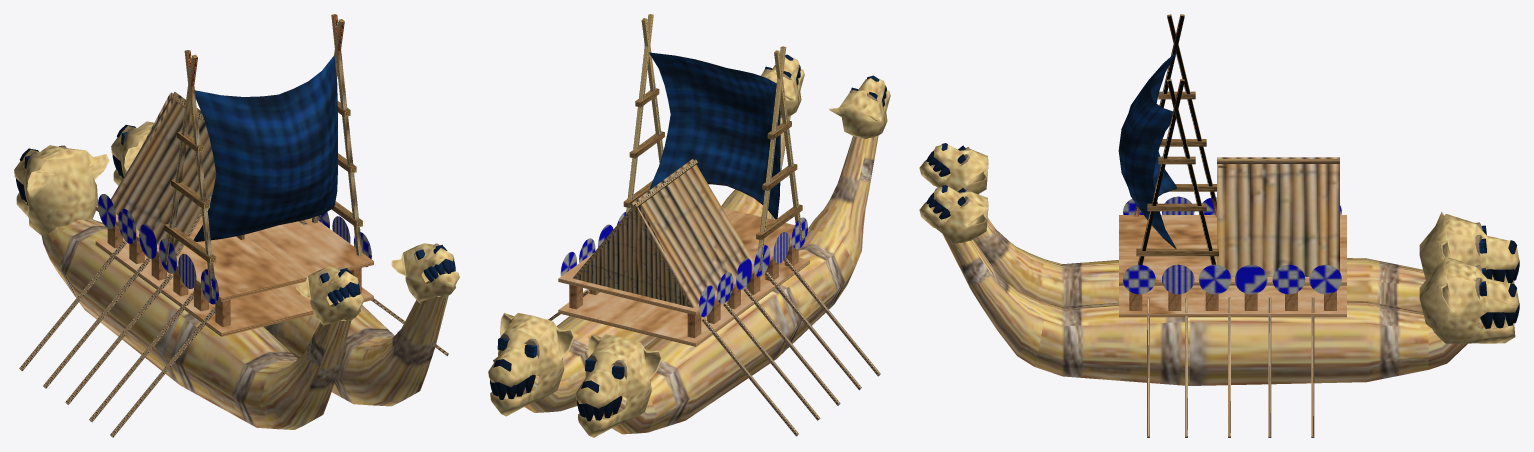
File: ship_bireme.dae
3 renders of one model, left to right at view 1: azimuth 30°, elevation 25°; view 2: azimuth 150°, elevation 25°; view 3: azimuth 270°, elevation 25°, orthographic. The views are drawn at different scales.
Visible parts, largest first — view 1: ship_war; view 2: ship_war; view 3: ship_war.
Part boxes in pixels (box(x1,y1,x2,y2)): ship_war: box(14, 14, 459, 437); ship_war: box(488, 14, 890, 437); ship_war: box(919, 14, 1519, 437).
Bounding box in the file's own units: 19.6 × 33.36 × 19.45.
